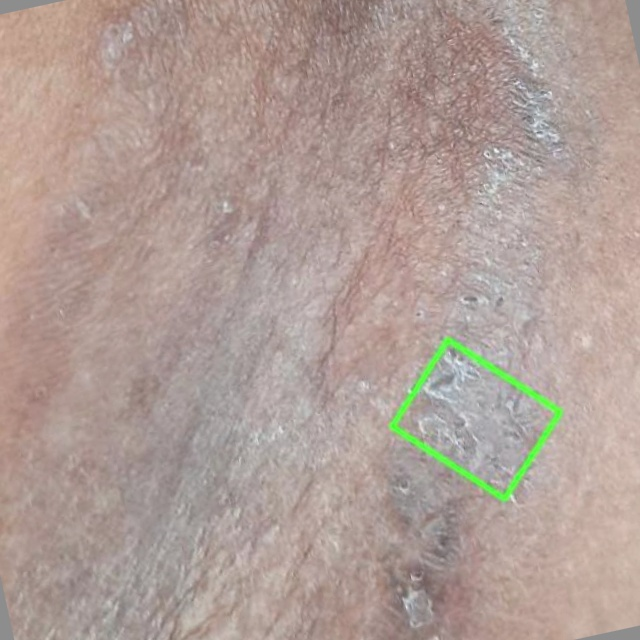Contact Dermatitis: (391, 339, 560, 498)
